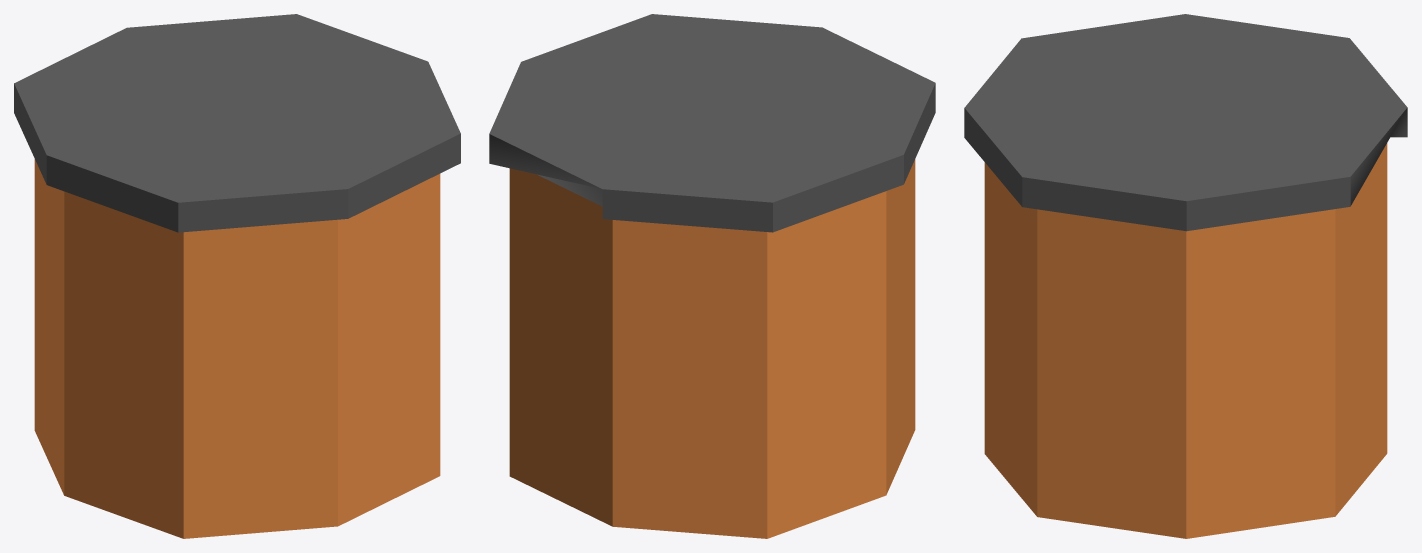
Rendered from Jar_8.fbx.
The picture shows the model from 3 angles, left to right: view 1: azimuth 30°, elevation 25°; view 2: azimuth 150°, elevation 25°; view 3: azimuth 270°, elevation 25°; orthographic projection.
Parts seen in each view (by area): view 1: Jar_8; view 2: Jar_8; view 3: Jar_8.
Part boxes in pixels (x1,y1,x2,y2): Jar_8: (14, 14, 460, 538); Jar_8: (489, 14, 935, 538); Jar_8: (964, 14, 1407, 538).
Bounding box in the file's own units: 27.94 × 27.94 × 24.09.
